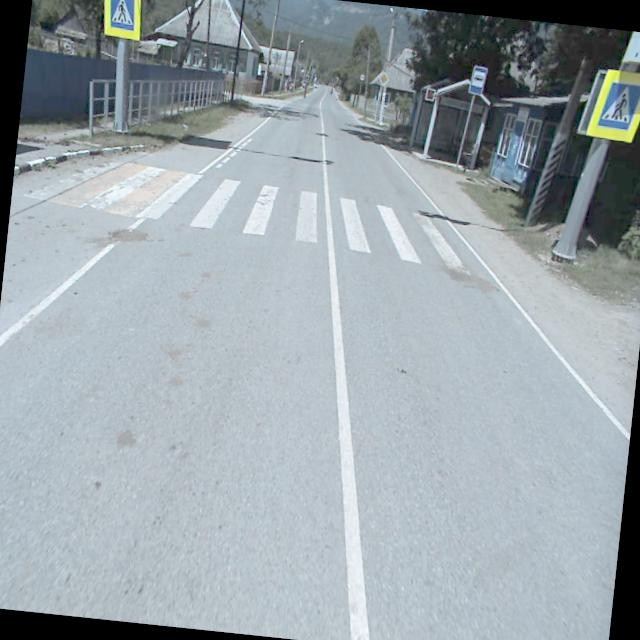road: (0, 84, 630, 640)
